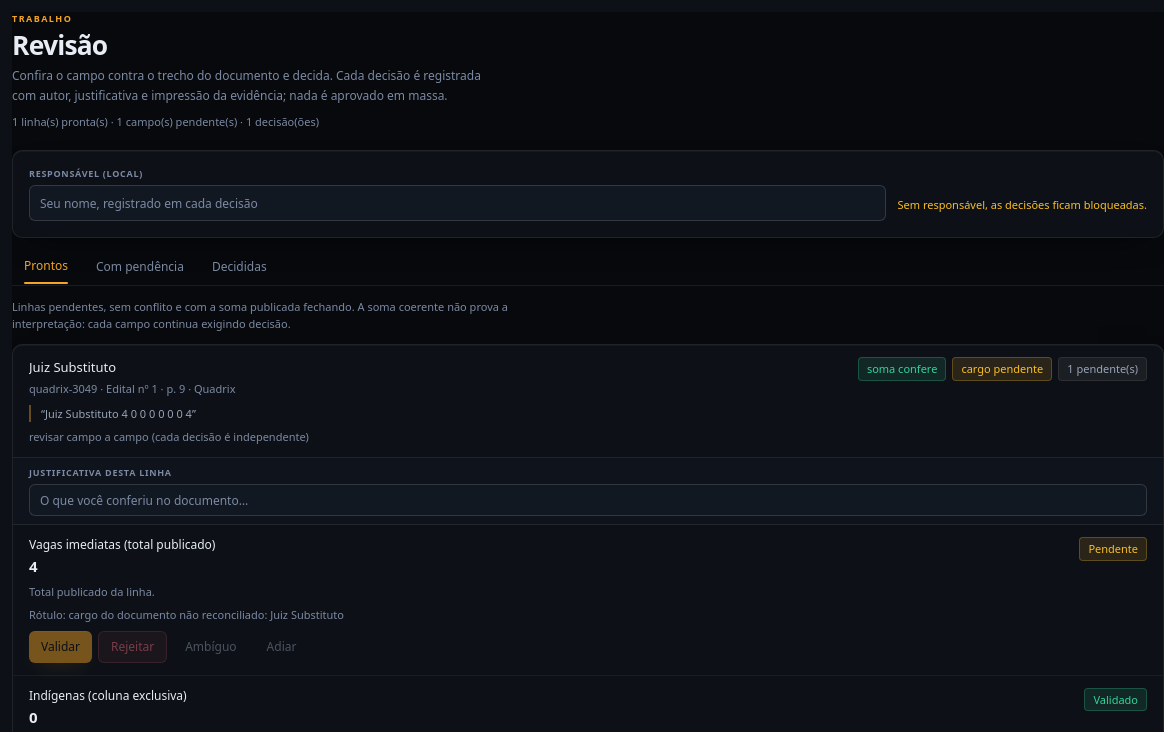
Scenario: página de Revisão › bloqueia a decisão sem responsável e sem justificativa
Expected: the button with aria-label "validar vagas imediatas" is disabled, [29,631,92,663]
Step 1. Type "anton" into the field with placeholder "Seu nome, registrado em cada decisão" → (457, 203), box [29,185,886,221]
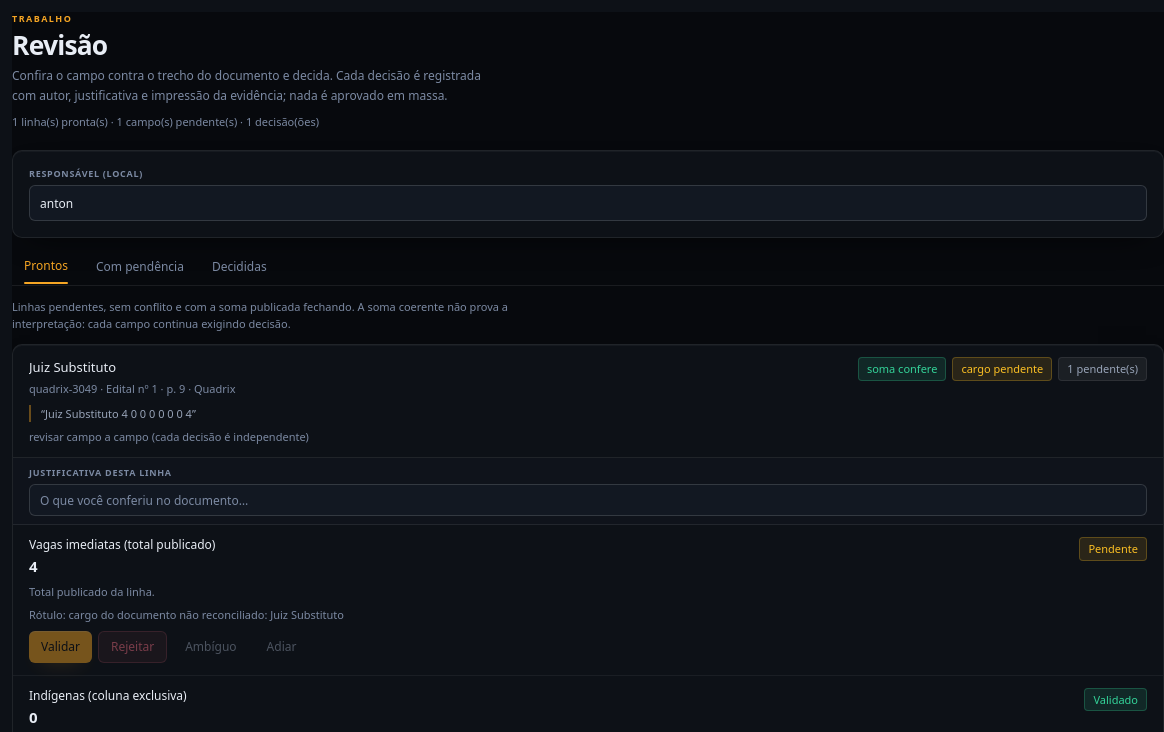
Expected: the button with aria-label "validar vagas imediatas" is disabled, [29,631,92,663]
Step 2. Type "total confere com o quadro" into the field with placeholder "O que você conferiu no documento…" → (588, 500), box [29,484,1147,516]
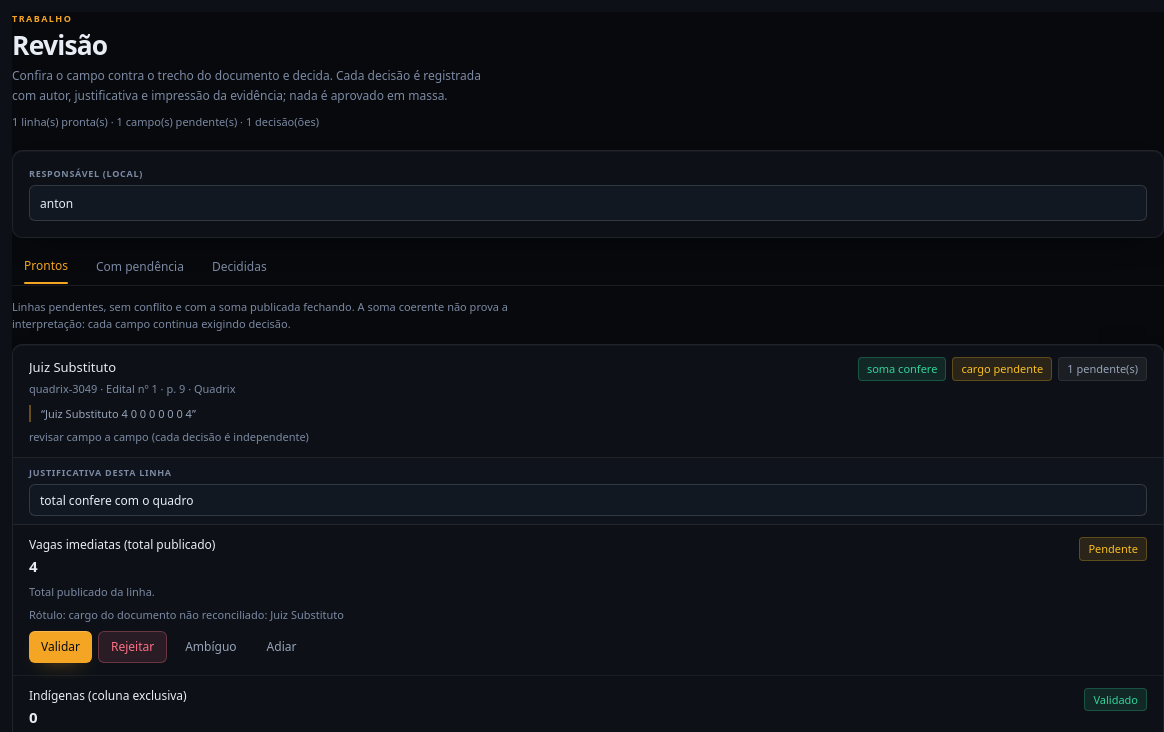
Result: the button with aria-label "validar vagas imediatas" is enabled at [29,631,92,663]
